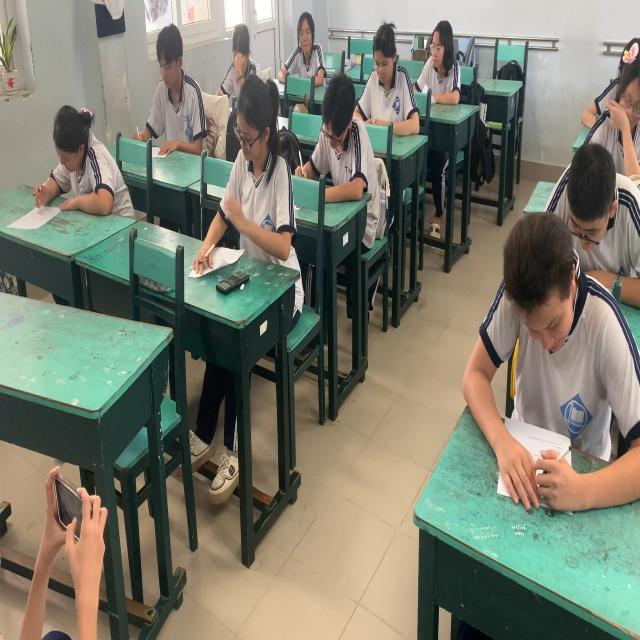not_cheating: (488, 236, 619, 510), (222, 88, 298, 264), (39, 91, 133, 229), (139, 30, 200, 160), (564, 133, 632, 233), (360, 12, 410, 125), (314, 81, 360, 188), (599, 43, 640, 153), (287, 5, 329, 91), (216, 19, 263, 84), (420, 26, 456, 101)
